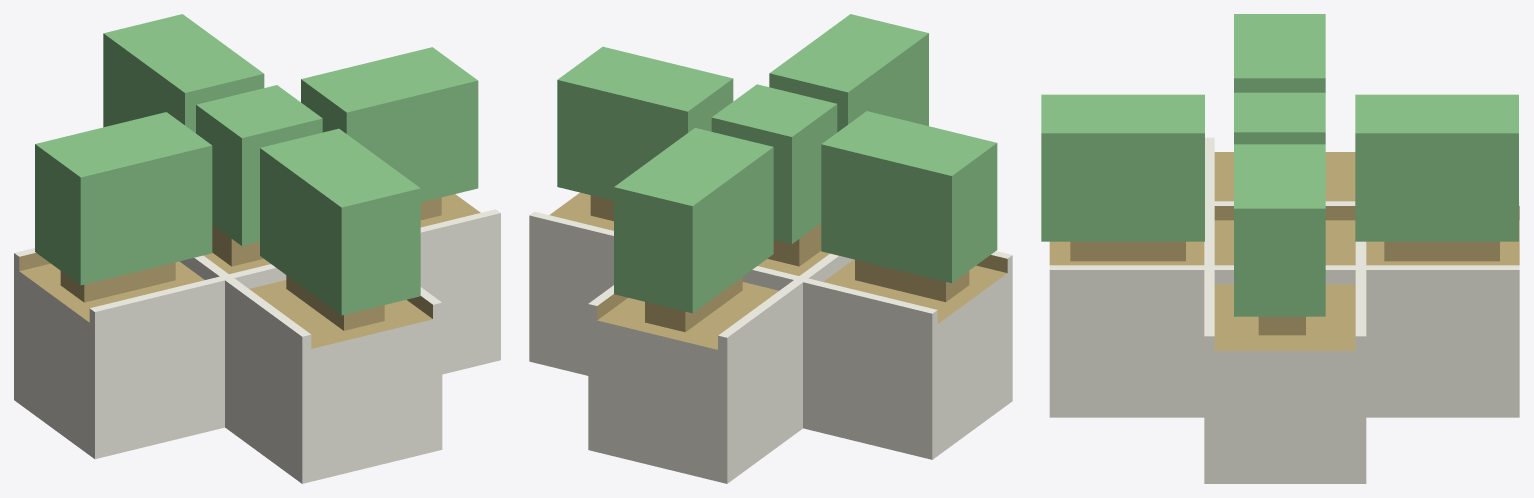
The model's file is props20.fbx.
3 views of the same model, side by side, from view 1: azimuth 30°, elevation 25°; view 2: azimuth 150°, elevation 25°; view 3: azimuth 270°, elevation 25° (orthographic).
Visible parts, largest first — view 1: Cube_10; view 2: Cube_10; view 3: Cube_10.
Part boxes in pixels (box(x1,y1,x2,y2)): Cube_10: box(14, 14, 500, 483); Cube_10: box(529, 14, 1012, 483); Cube_10: box(1041, 14, 1519, 483).
Size of the model in its own units: 208 by 133 by 212.
